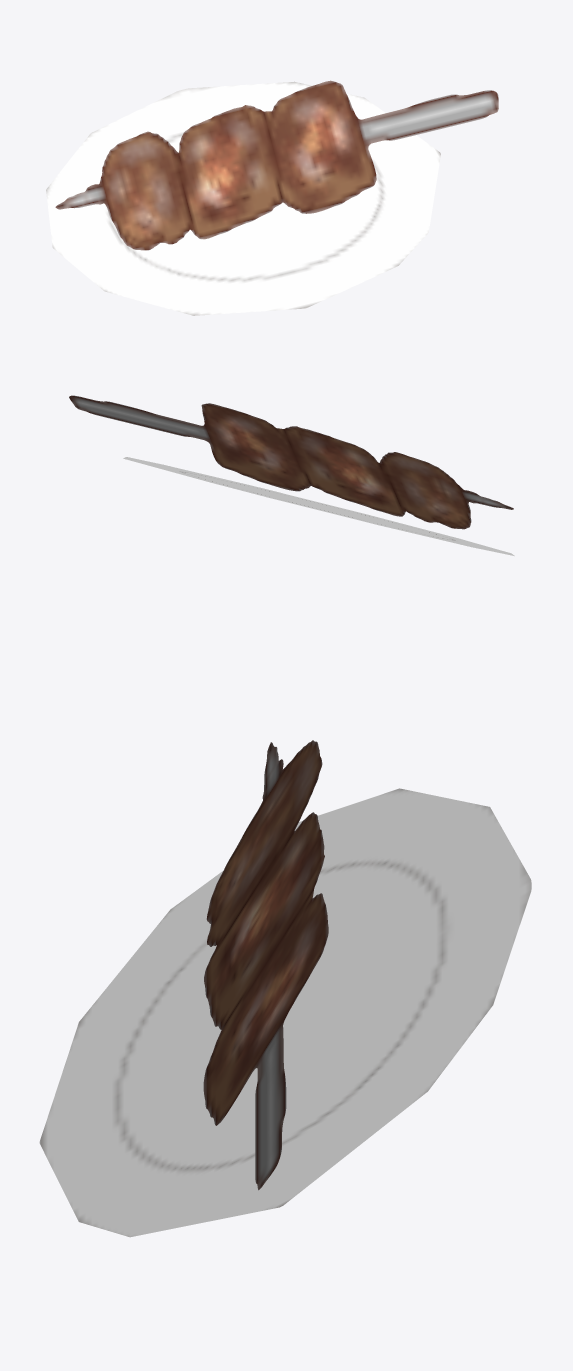
File: giftgoods056.fbx
3 renders of one model, top to bottom at view 1: azimuth 30°, elevation 25°; view 2: azimuth 150°, elevation 25°; view 3: azimuth 270°, elevation 25°, orthographic. The views are drawn at different scales.
Parts seen in each view (by area): view 1: giftgoods056; view 2: giftgoods056; view 3: giftgoods056.
Boxes of the visible parts, x1,y1,x2,y2 form: giftgoods056: (46, 80, 498, 315); giftgoods056: (69, 395, 514, 555); giftgoods056: (39, 740, 531, 1237).
Bounding box in the file's own units: 0.6092 × 0.1942 × 0.2596.
